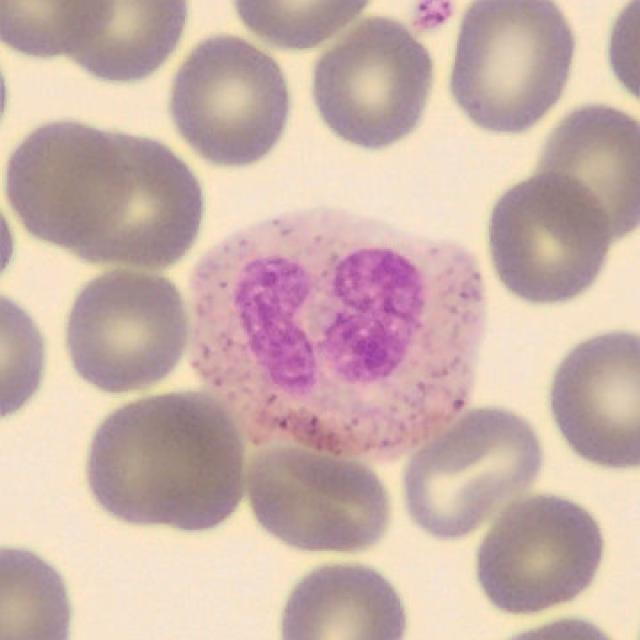Neutrofilo segmentado: (183, 206, 489, 468)
